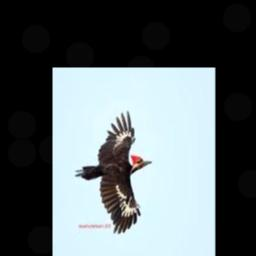Woodpecker: (74, 109, 151, 232)
